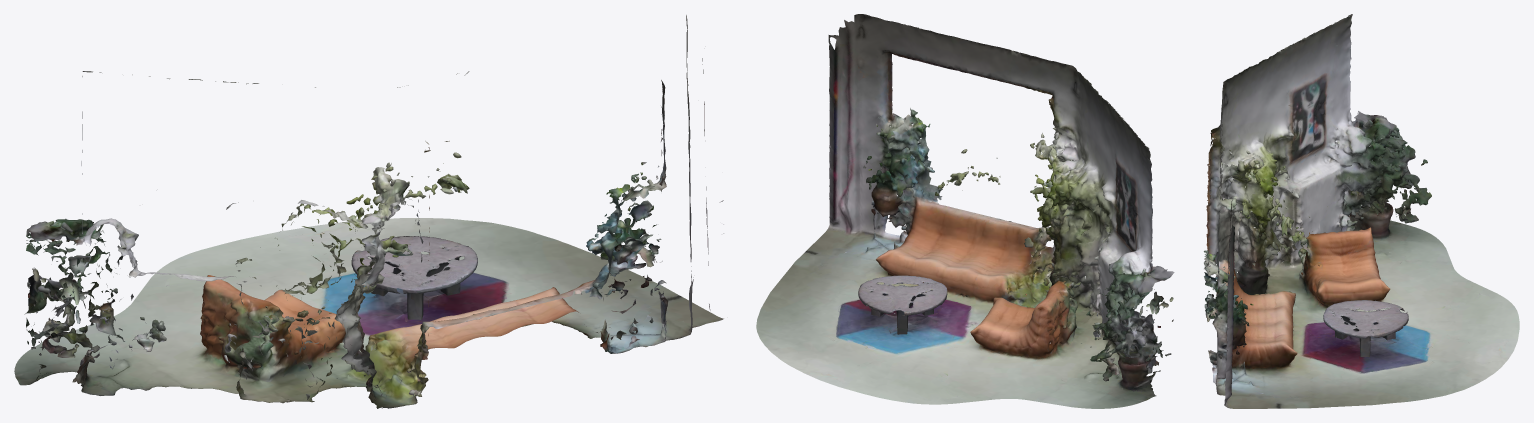
The model's file is sittingisland-final.simplified.compressed.glb.
3 views of the same model, side by side, from view 1: azimuth 30°, elevation 25°; view 2: azimuth 150°, elevation 25°; view 3: azimuth 270°, elevation 25° (orthographic). The views are drawn at different scales.
Bounding box in the file's own units: 114 × 60.55 × 78.3.
Materials: 2 (2 with a texture image).
